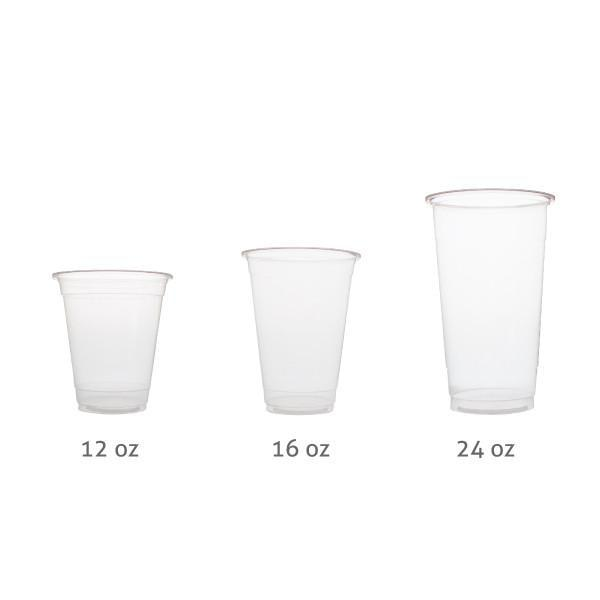plastic_glass: (419, 171, 573, 418), (224, 235, 382, 428), (48, 261, 181, 431)
